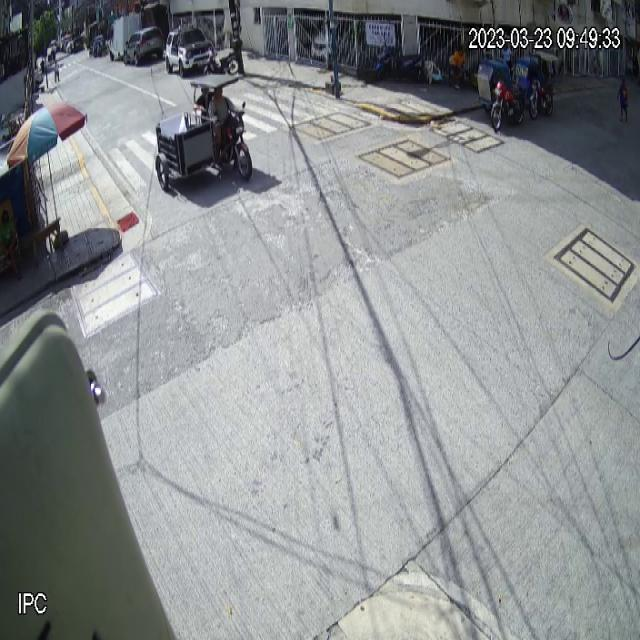Tricycle: (155, 72, 254, 190)
